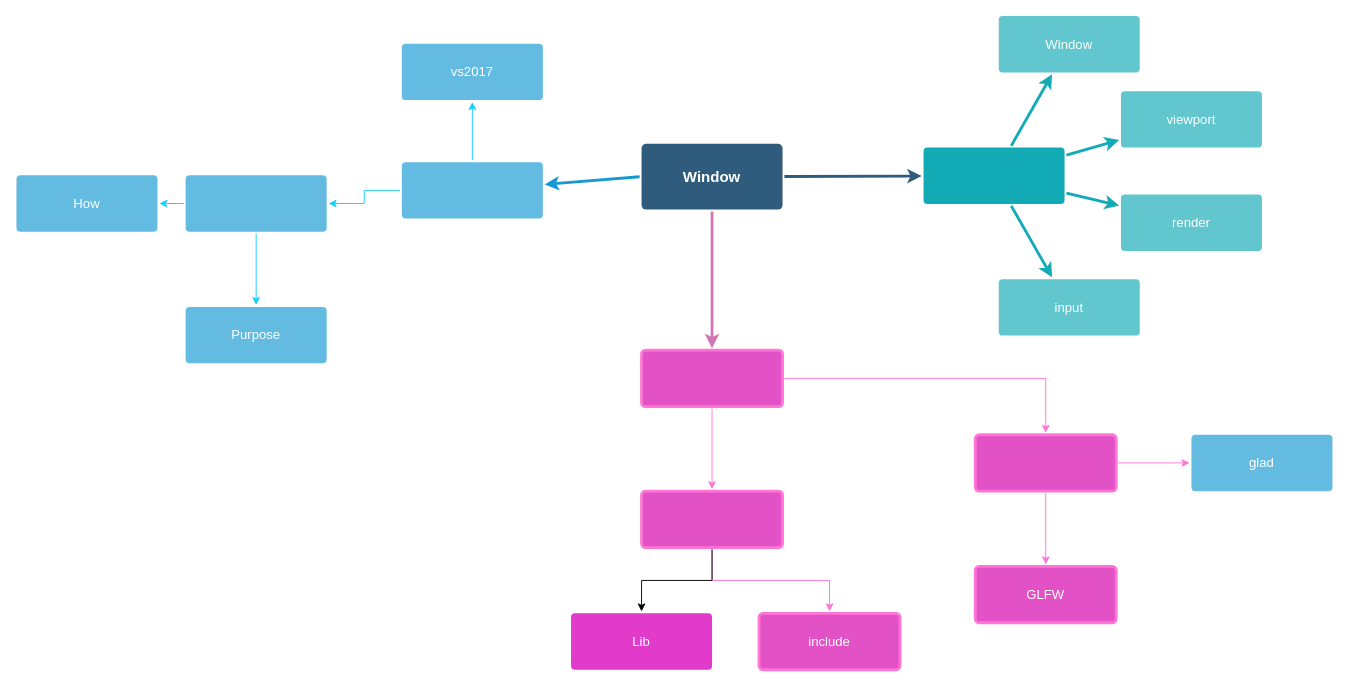
Some shapes in this 1348 by 687 pixel diagram are drawn without their labels. Here are the shapes that lost their labels. From the top down, the box of each, then its label:
(401, 162, 542, 218): IDE
(923, 147, 1064, 204): Structure
(185, 175, 326, 231): Cmake
(640, 348, 783, 407): Libary
(973, 433, 1117, 492): Category
(640, 489, 783, 548): Link
